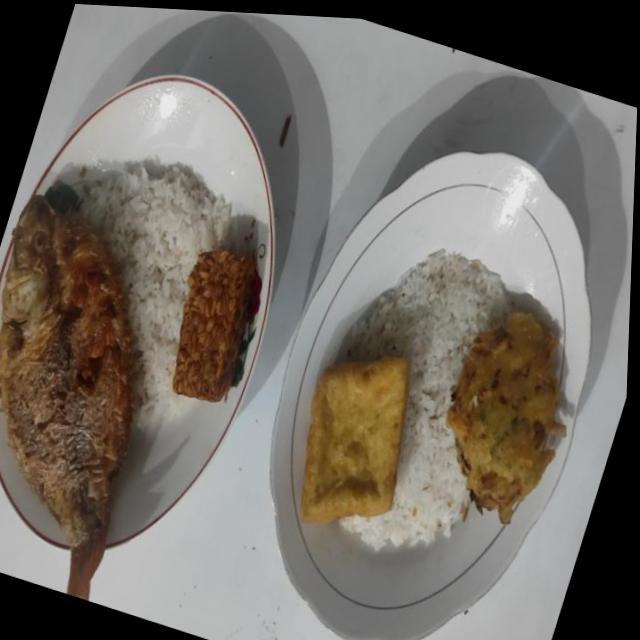ikan_mujair: (0, 196, 134, 600)
nasi_putih: (340, 249, 507, 549), (80, 159, 232, 431)
tahu_goreng: (300, 357, 410, 522)
tempe_goreng: (172, 250, 255, 402)
